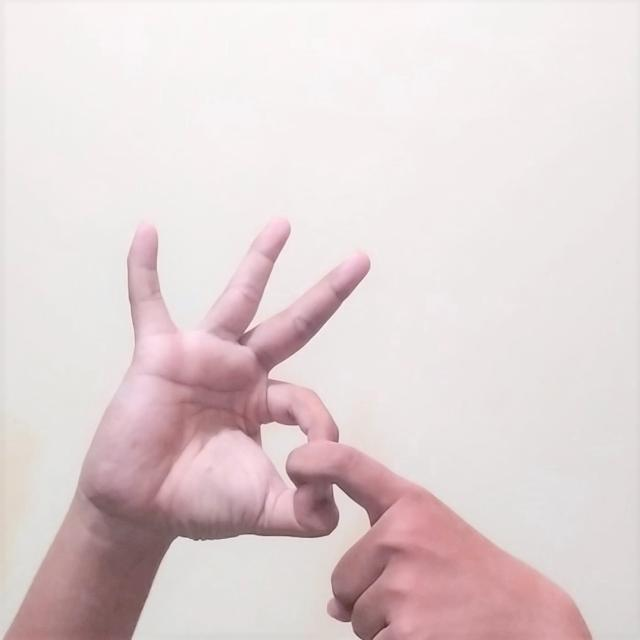Q: (65, 198, 550, 628)
